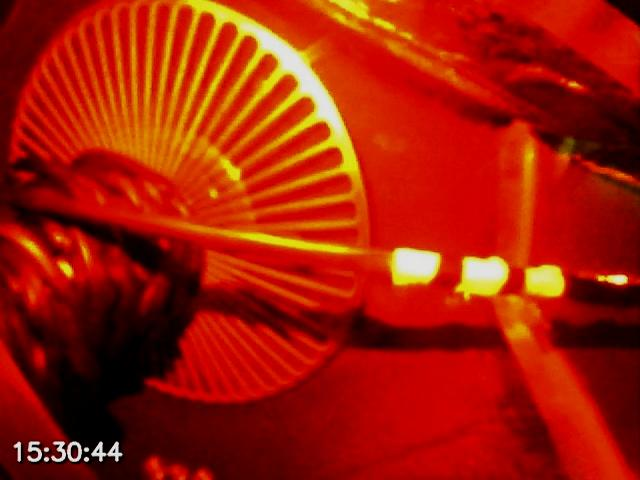white-dots: (390, 245, 566, 299)
